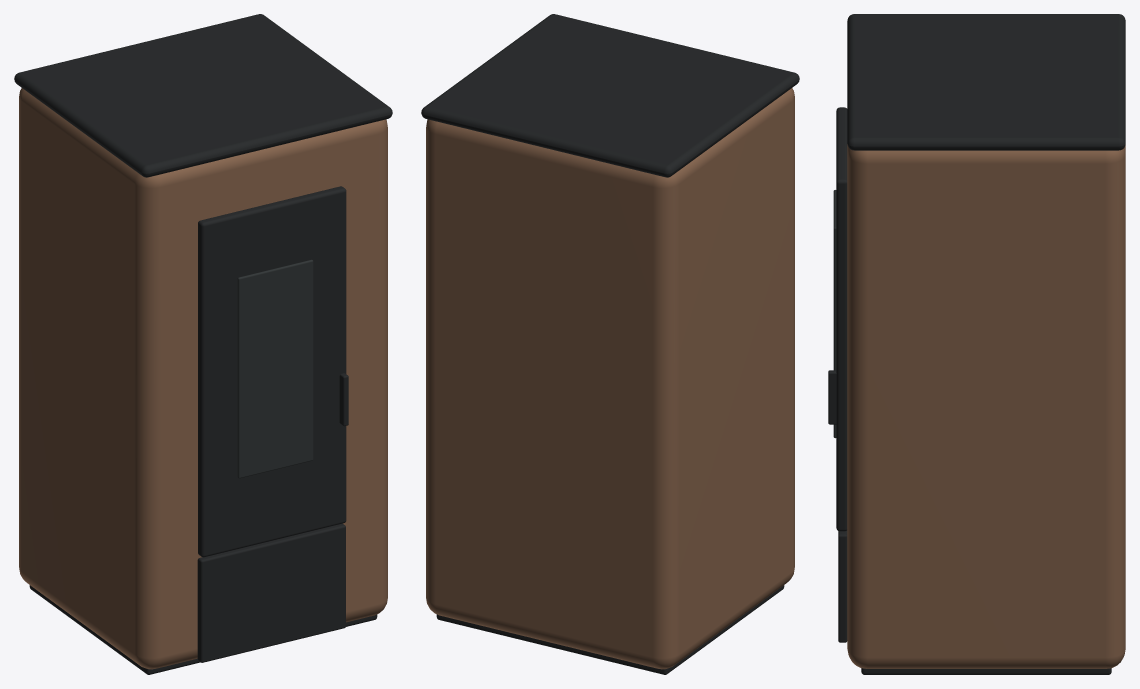
Rendered from ravelli-easy-9-bronzo.glb.
The picture shows the model from 3 angles, left to right: view 1: azimuth 30°, elevation 25°; view 2: azimuth 150°, elevation 25°; view 3: azimuth 270°, elevation 25°; orthographic projection. The views are drawn at different scales.
Parts seen in each view (by area): view 1: Corpo.003, Coperchio.002, Porta.001, Pannello inferiore.001, Vetro sportello.004, Zoccolo.003; view 2: Corpo.003, Coperchio.002, Zoccolo.003; view 3: Corpo.003, Coperchio.002, Porta.001, Zoccolo.003, Pannello inferiore.001, Vetro sportello.004, Maniglia.001.
Part boxes in pixels (box(x1,y1,x2,y2)): Corpo.003: box(19, 88, 387, 669); Coperchio.002: box(14, 14, 392, 177); Porta.001: box(198, 186, 346, 557); Pannello inferiore.001: box(197, 523, 345, 662); Vetro sportello.004: box(237, 259, 313, 478); Zoccolo.003: box(29, 585, 377, 674); Corpo.003: box(426, 88, 794, 669); Coperchio.002: box(421, 14, 799, 177); Zoccolo.003: box(436, 585, 784, 674); Corpo.003: box(847, 144, 1125, 668); Coperchio.002: box(847, 14, 1125, 150); Porta.001: box(836, 107, 847, 531); Zoccolo.003: box(861, 668, 1111, 674); Pannello inferiore.001: box(838, 530, 847, 642); Vetro sportello.004: box(833, 190, 836, 438); Maniglia.001: box(828, 370, 836, 424).
Size of the model in its own units: 0.525 by 1.03 by 0.513.
